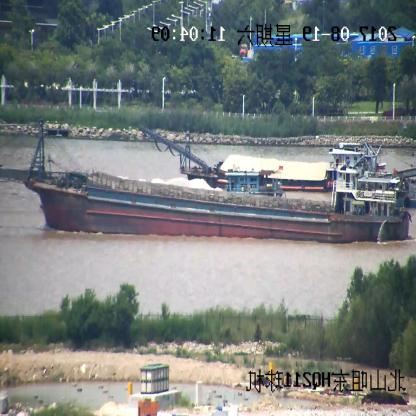Bulk Carrier: (0, 122, 412, 245)
